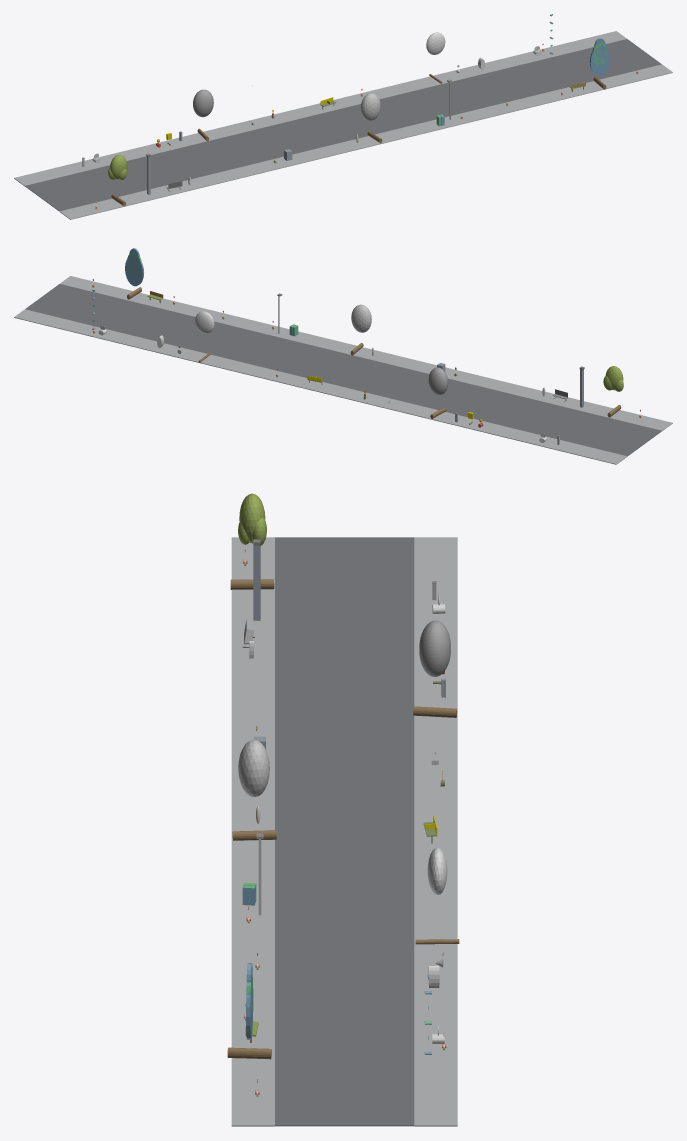
The picture shows the model from 3 angles, top to bottom: view 1: azimuth 30°, elevation 25°; view 2: azimuth 150°, elevation 25°; view 3: azimuth 270°, elevation 25°; orthographic projection. The views are drawn at different scales.
Visible parts, largest first — view 1: road_slab, sidewalk_left, sidewalk_right, inst_0016, inst_0014, inst_0013, inst_0012, inst_0015; view 2: road_slab, sidewalk_right, sidewalk_left, inst_0016, inst_0014, inst_0013, inst_0012, inst_0015; view 3: road_slab, sidewalk_right, sidewalk_left, inst_0013, inst_0014, inst_0012, inst_0016, inst_0015.
Boxes of the visible parts, x1,y1,x2,y2 form: road_slab: (25, 39, 661, 211); sidewalk_left: (59, 64, 672, 219); sidewalk_right: (14, 31, 626, 186); inst_0016: (589, 38, 610, 89); inst_0014: (360, 93, 382, 143); inst_0013: (193, 89, 213, 141); inst_0012: (108, 155, 127, 206); inst_0015: (426, 32, 445, 83); road_slab: (25, 284, 661, 456); sidewalk_right: (14, 309, 627, 464); sidewalk_left: (60, 276, 672, 430); inst_0016: (125, 248, 143, 299); inst_0014: (350, 304, 371, 355); inst_0013: (428, 367, 448, 418); inst_0012: (603, 366, 623, 417); inst_0015: (195, 311, 214, 362); road_slab: (275, 537, 414, 1126); sidewalk_right: (414, 537, 457, 1126); sidewalk_left: (231, 537, 274, 1126); inst_0013: (413, 620, 457, 717); inst_0014: (232, 739, 276, 840); inst_0012: (230, 493, 274, 589); inst_0016: (227, 963, 271, 1059); inst_0015: (415, 847, 459, 944).
Bounding box in the file's own units: 80 × 6.08 × 13.31.
